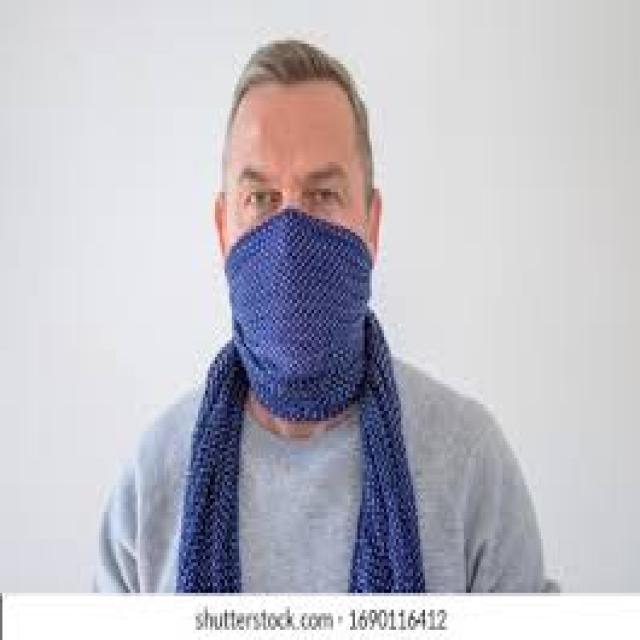person-with-mask: (80, 19, 582, 592)
